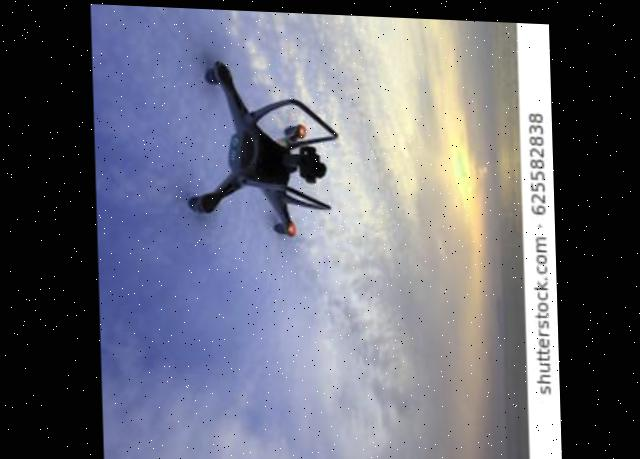drone: (164, 25, 367, 262)
